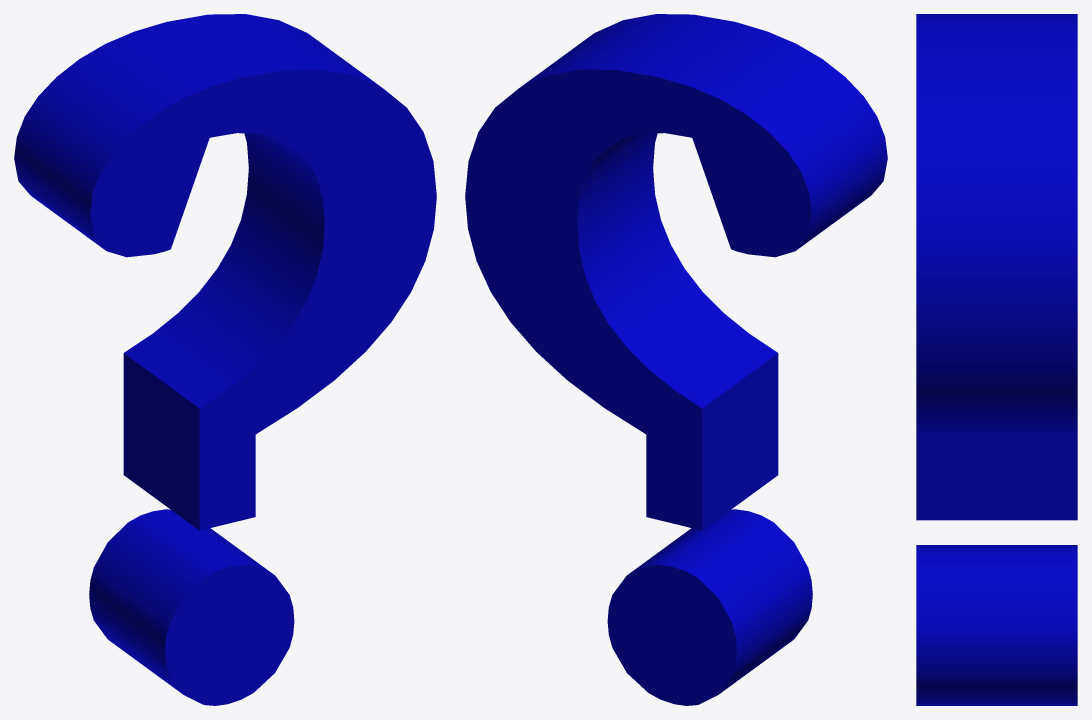
Rendered from QuestionMark.dae.
The picture shows the model from 3 angles, left to right: view 1: azimuth 30°, elevation 25°; view 2: azimuth 150°, elevation 25°; view 3: azimuth 270°, elevation 25°; orthographic projection. The views are drawn at different scales.
Parts seen in each view (by area): view 1: typeMesh1; view 2: typeMesh1; view 3: typeMesh1.
Part boxes in pixels (<box>): typeMesh1: <box>14,14,436,705</box>; typeMesh1: <box>465,14,887,705</box>; typeMesh1: <box>916,14,1077,705</box>.
Bounding box in the file's own units: 6.59 × 11.32 × 2.5.
